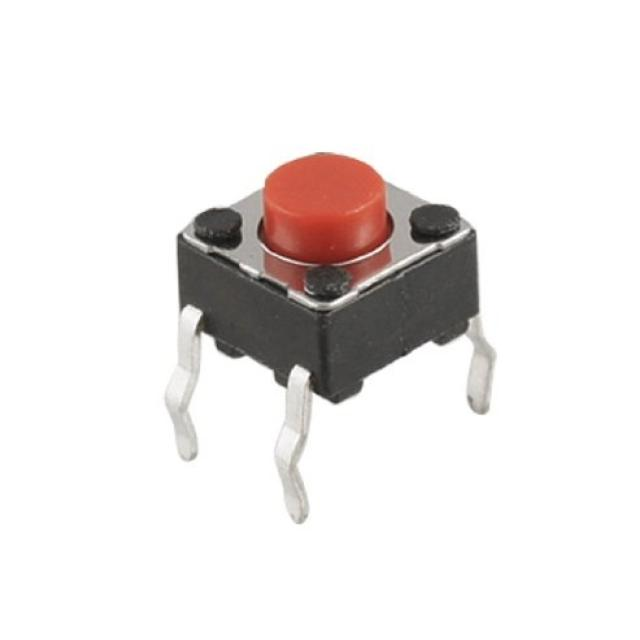Push button: (165, 156, 498, 524)
